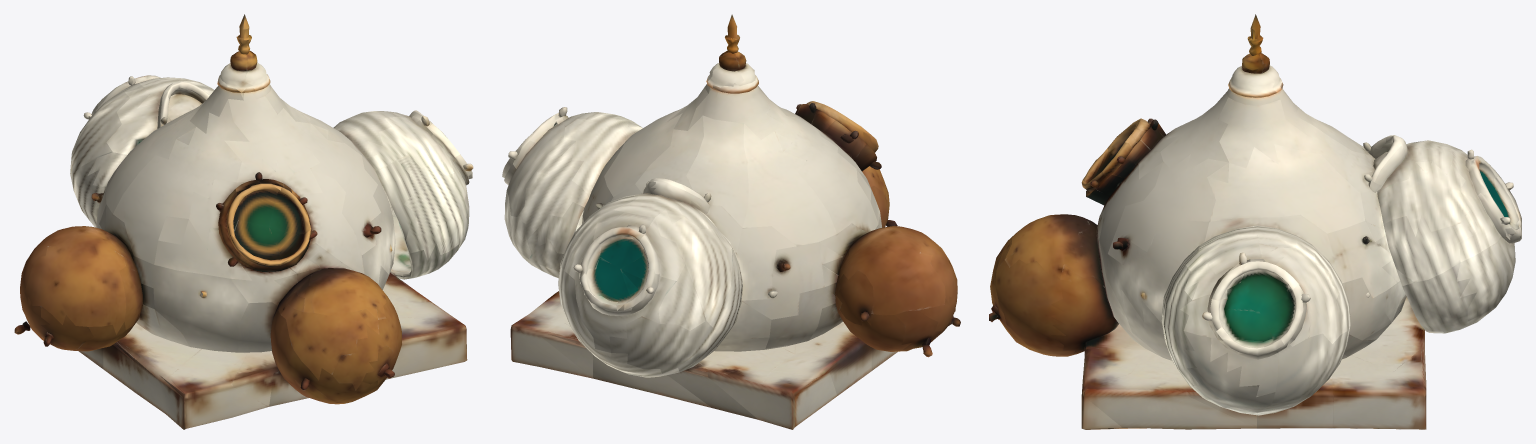
The model's file is arch-wall-straight.glb.
3 views of the same model, side by side, from view 1: azimuth 30°, elevation 25°; view 2: azimuth 150°, elevation 25°; view 3: azimuth 270°, elevation 25° (orthographic). The views are drawn at different scales.
Visible parts, largest first — view 1: Mesh_0; view 2: Mesh_0; view 3: Mesh_0.
Boxes of the visible parts, x1,y1,x2,y2 form: Mesh_0: (14, 14, 473, 429); Mesh_0: (502, 14, 960, 429); Mesh_0: (989, 14, 1521, 429).
Size of the model in its own units: 1 by 0.7129 by 1.
Materials: 1 (1 with a texture image).
